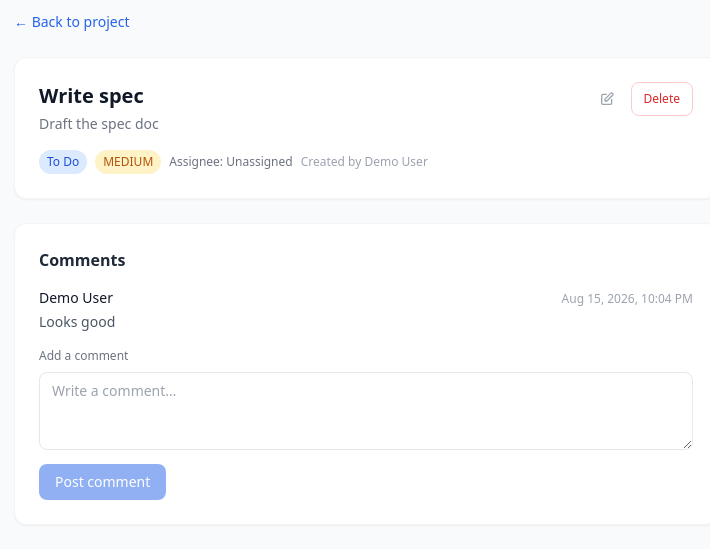
TaskDetail › shows a delete error and resets confirmation state on failure
This screenshot has width=710, height=549.
Expected: the heading "Write spec" is shown, [39,82,159,110]
Step 1. Click the button "Delete" → point(662, 99), box [630,82,693,116]
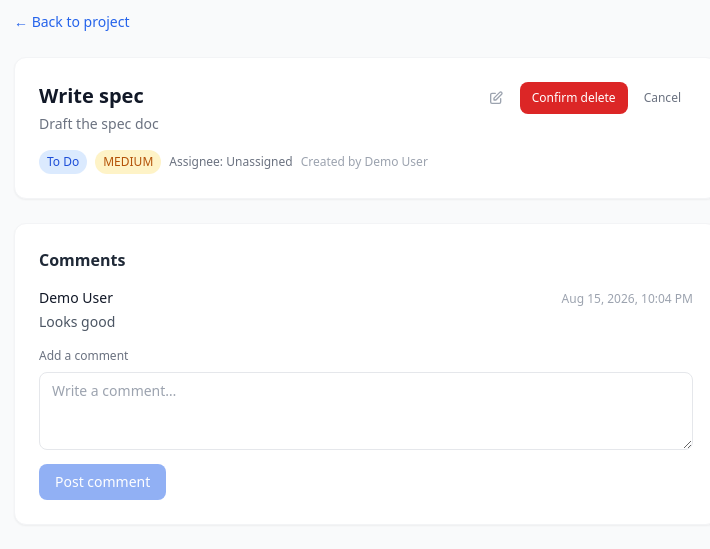
Step 2. Click the button "Confirm delete" → point(574, 98), box [520,82,628,114]
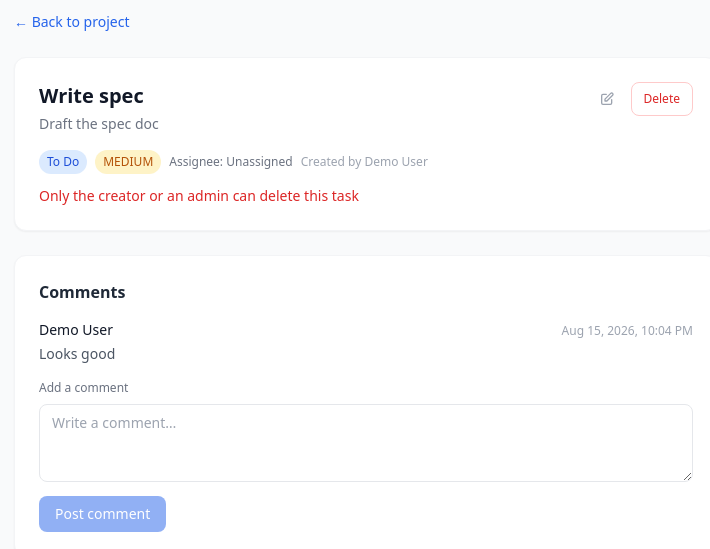
Expected: the text "Only the creator or an admin can delete this task" is shown, [39,186,359,205]
Expected: the button "Delete" is shown, [630,82,693,116]
